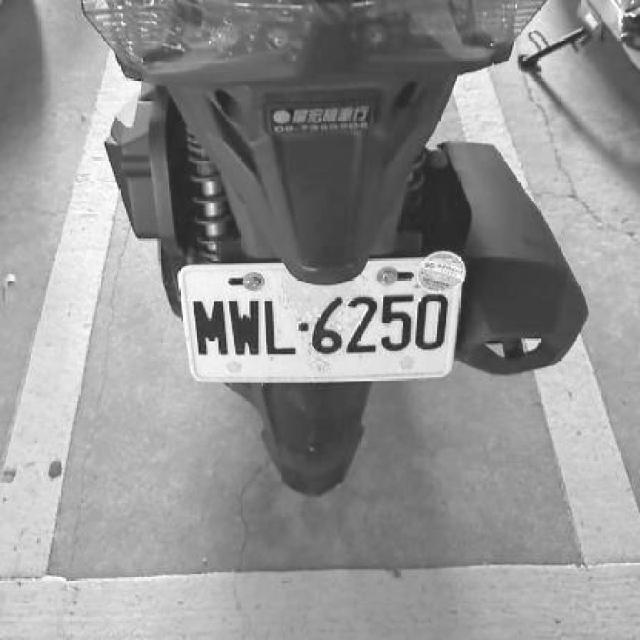-: (297, 322, 309, 332)
0: (414, 291, 448, 355)
2: (342, 292, 378, 357)
5: (380, 294, 414, 355)
6: (310, 294, 344, 355)
L: (260, 296, 297, 356)
M: (189, 297, 228, 361)
W: (224, 293, 263, 359)
